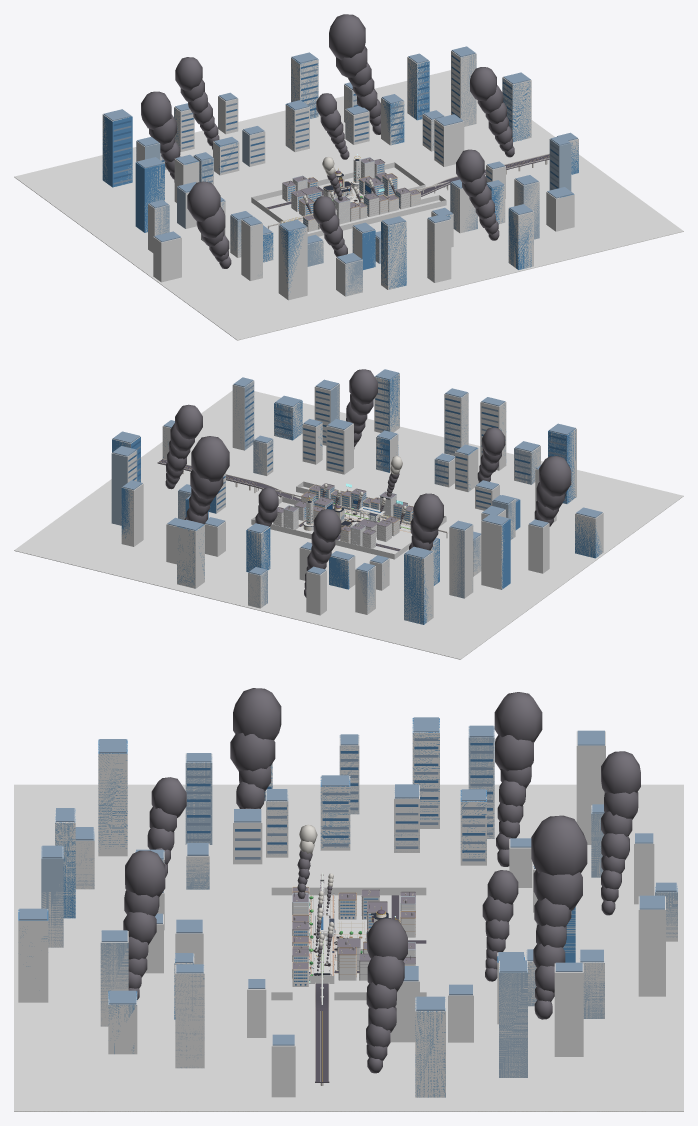
The model's file is m3_cityhall.glb.
3 renders of one model, top to bottom at view 1: azimuth 30°, elevation 25°; view 2: azimuth 150°, elevation 25°; view 3: azimuth 270°, elevation 25°, orthographic. The views are drawn at different scales.
Visible parts, largest first — view 1: COL_far_277, far_smoke_d_fine, far_glass_t_far, far_far_far, far_far_d_far, COL_far_268, far_far_d_fine, COL_far_270, far_glass_d_fine, COL_far_271, COL_far_255, COL_far_254 (+20 smaller); view 2: COL_far_277, far_smoke_d_fine, far_glass_t_far, far_far_far, far_far_d_far, COL_far_262, far_far_d_fine, COL_far_263, COL_far_258, far_glass_d_fine, COL_far_264, COL_far_271 (+22 smaller); view 3: COL_far_277, far_smoke_d_fine, far_far_far, far_far_d_far, far_glass_t_far, COL_far_268, COL_far_275, COL_far_254, COL_far_256, COL_far_272, COL_far_258, far_far_d_fine (+36 smaller).
Boxes of the visible parts, x1=… form: COL_far_277: x1=14, y1=70, x2=683, y2=340; far_smoke_d_fine: x1=141, y1=14, x2=514, y2=268; far_glass_t_far: x1=102, y1=57, x2=578, y2=290; far_far_far: x1=136, y1=50, x2=571, y2=295; far_far_d_far: x1=103, y1=46, x2=577, y2=263; COL_far_268: x1=278, y1=224, x2=307, y2=300; far_far_d_fine: x1=113, y1=61, x2=558, y2=189; COL_far_270: x1=381, y1=221, x2=406, y2=289; far_glass_d_fine: x1=113, y1=55, x2=558, y2=188; COL_far_271: x1=427, y1=218, x2=451, y2=282; COL_far_255: x1=451, y1=51, x2=476, y2=126; COL_far_254: x1=502, y1=77, x2=531, y2=141; COL_far_277: x1=14, y1=390, x2=683, y2=659; far_smoke_d_fine: x1=165, y1=369, x2=571, y2=597; far_glass_t_far: x1=112, y1=373, x2=602, y2=624; far_far_far: x1=111, y1=380, x2=540, y2=612; far_far_d_far: x1=112, y1=369, x2=602, y2=575; COL_far_262: x1=404, y1=552, x2=433, y2=624; far_far_d_fine: x1=128, y1=381, x2=565, y2=510; COL_far_263: x1=449, y1=525, x2=473, y2=598; COL_far_258: x1=177, y1=525, x2=204, y2=588; far_glass_d_fine: x1=128, y1=387, x2=565, y2=504; COL_far_264: x1=481, y1=520, x2=505, y2=589; COL_far_271: x1=444, y1=393, x2=468, y2=455; COL_far_277: x1=14, y1=784, x2=683, y2=1111; far_smoke_d_fine: x1=123, y1=688, x2=640, y2=1073; far_far_far: x1=41, y1=726, x2=677, y2=1077; far_far_d_far: x1=19, y1=717, x2=676, y2=1045; far_glass_t_far: x1=18, y1=718, x2=575, y2=1097; COL_far_268: x1=98, y1=740, x2=127, y2=856; COL_far_275: x1=175, y1=965, x2=204, y2=1068; COL_far_254: x1=415, y1=997, x2=445, y2=1097; COL_far_256: x1=554, y1=963, x2=583, y2=1056; COL_far_272: x1=18, y1=909, x2=48, y2=1002; COL_far_258: x1=638, y1=896, x2=665, y2=996; far_far_d_fine: x1=187, y1=738, x2=492, y2=861.
Size of the model in its own units: 600 by 158 by 520.
